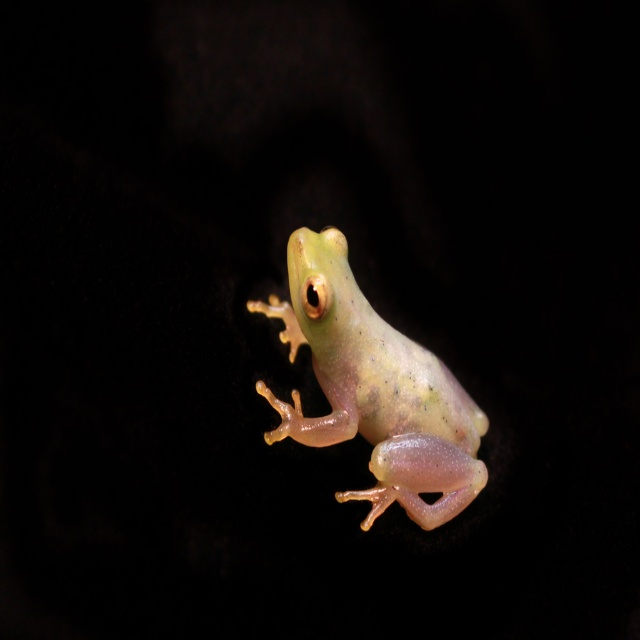Frog: (245, 229, 488, 531)
